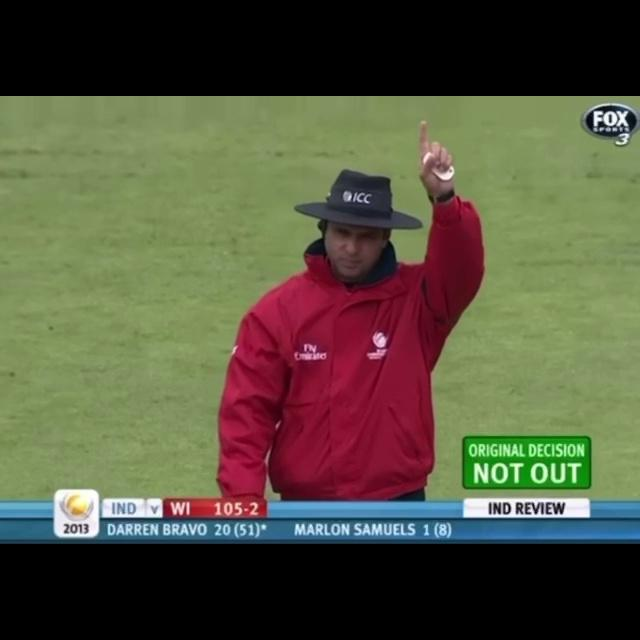umpire: (169, 102, 491, 501)
